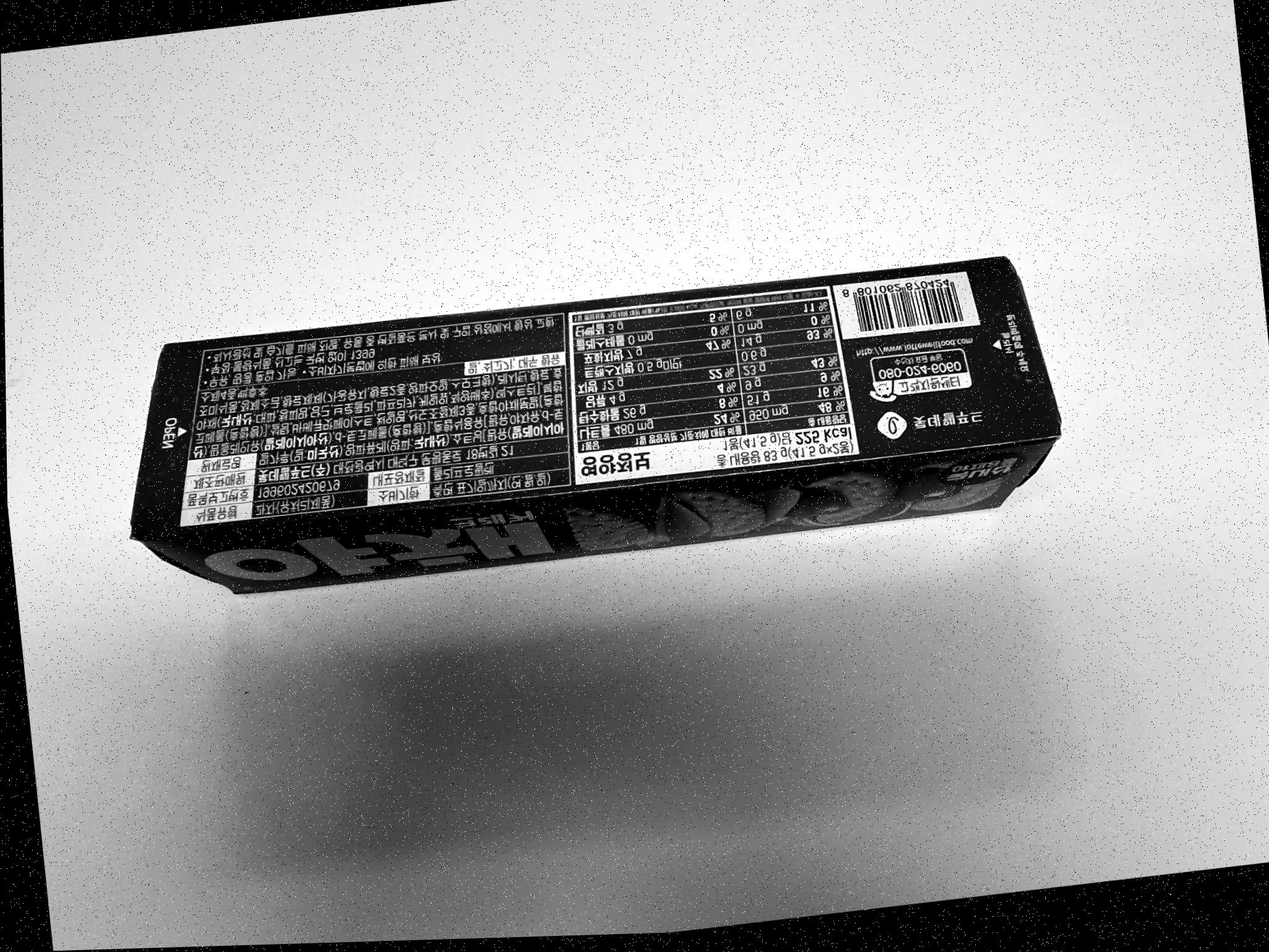cracker_vege: (127, 258, 1063, 598)
